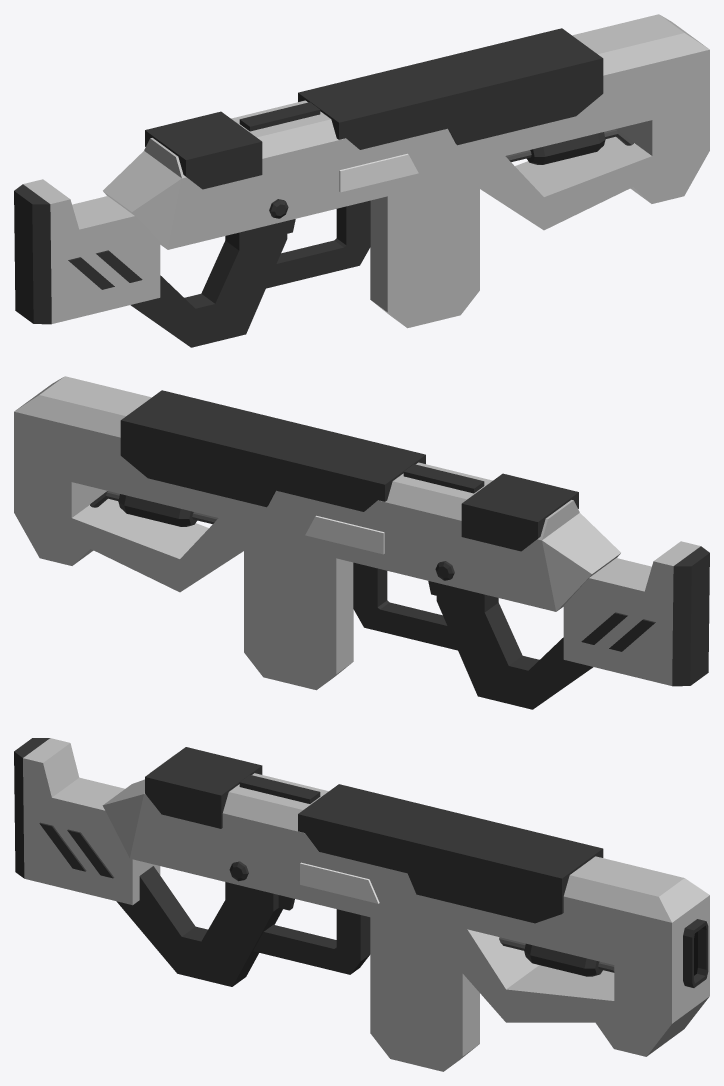
Rendered from Rifle_Pulse_A_V4.FBX.
3 renders of one model, top to bottom at view 1: azimuth 30°, elevation 25°; view 2: azimuth 150°, elevation 25°; view 3: azimuth 330°, elevation 25°, orthographic.
Visible parts, largest first — view 1: Rifle_Pulse_A_V4, Magazine; view 2: Rifle_Pulse_A_V4, Magazine; view 3: Rifle_Pulse_A_V4, Magazine.
Part boxes in pixels (<box>): Rifle_Pulse_A_V4: <box>14,14,709,347</box>; Magazine: <box>370,178,479,328</box>; Rifle_Pulse_A_V4: <box>14,376,709,709</box>; Magazine: <box>244,540,353,690</box>; Rifle_Pulse_A_V4: <box>14,738,709,1056</box>; Magazine: <box>370,917,479,1071</box>.
Bounding box in the file's own units: 411 × 137 × 45.63.
